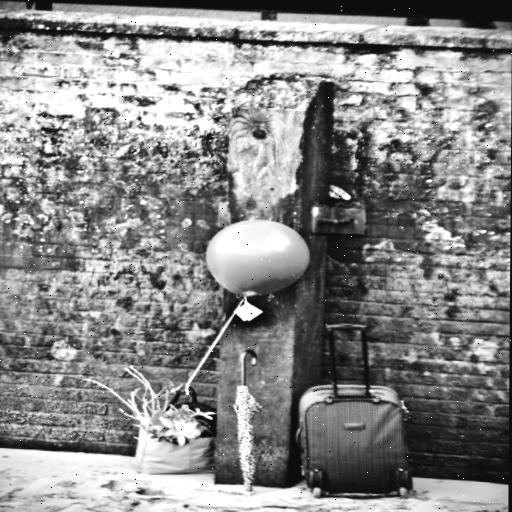balloon: (202, 213, 310, 303)
